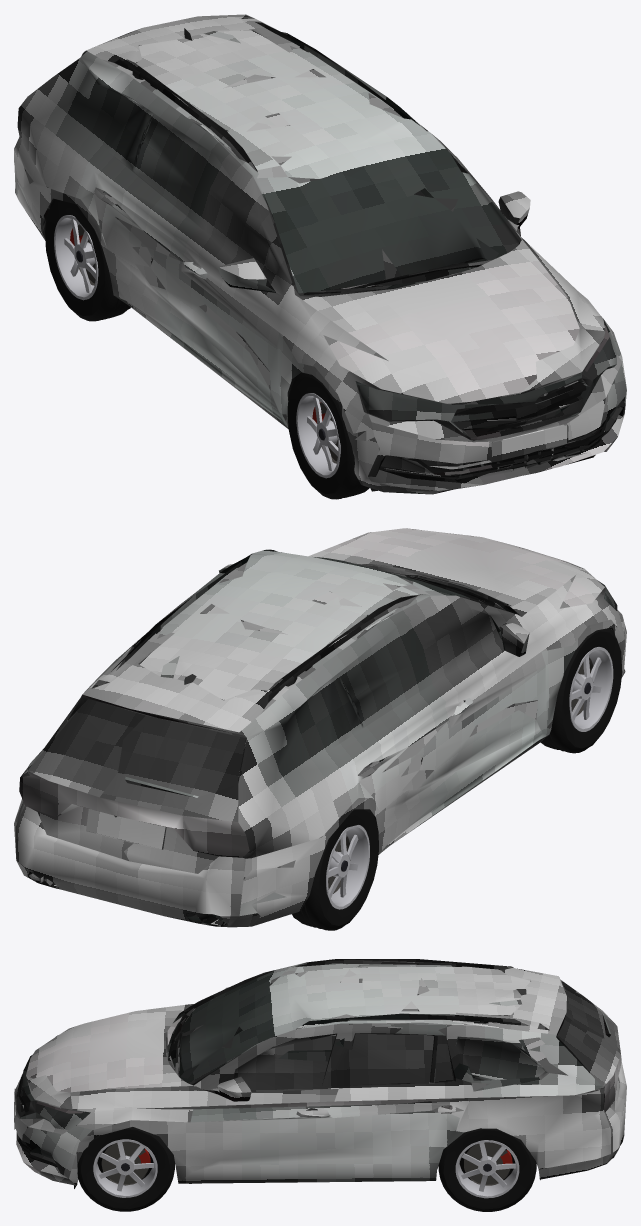
The model's file is kombi_m.glb.
The picture shows the model from 3 angles, top to bottom: view 1: azimuth 30°, elevation 25°; view 2: azimuth 150°, elevation 25°; view 3: azimuth 270°, elevation 25°; orthographic projection. The views are drawn at different scales.
Parts seen in each view (by area): view 1: karosserie, rad_vr, rad_hr; view 2: karosserie, rad_vr, rad_hr; view 3: karosserie, rad_vl, rad_hl.
Part boxes in pixels (left/top/right/bottom): karosserie: left=14, top=14, right=626, bottom=494; rad_vr: left=287, top=372, right=369, bottom=499; rad_hr: left=45, top=199, right=130, bottom=321; karosserie: left=14, top=528, right=626, bottom=927; rad_vr: left=540, top=628, right=622, bottom=753; rad_hr: left=292, top=809, right=378, bottom=930; karosserie: left=14, top=959, right=626, bottom=1188; rad_vl: left=77, top=1127, right=174, bottom=1211; rad_hl: left=438, top=1128, right=536, bottom=1211.
Size of the model in its own units: 2 by 1.5 by 4.7.
Materials: 3 (1 with a texture image).
